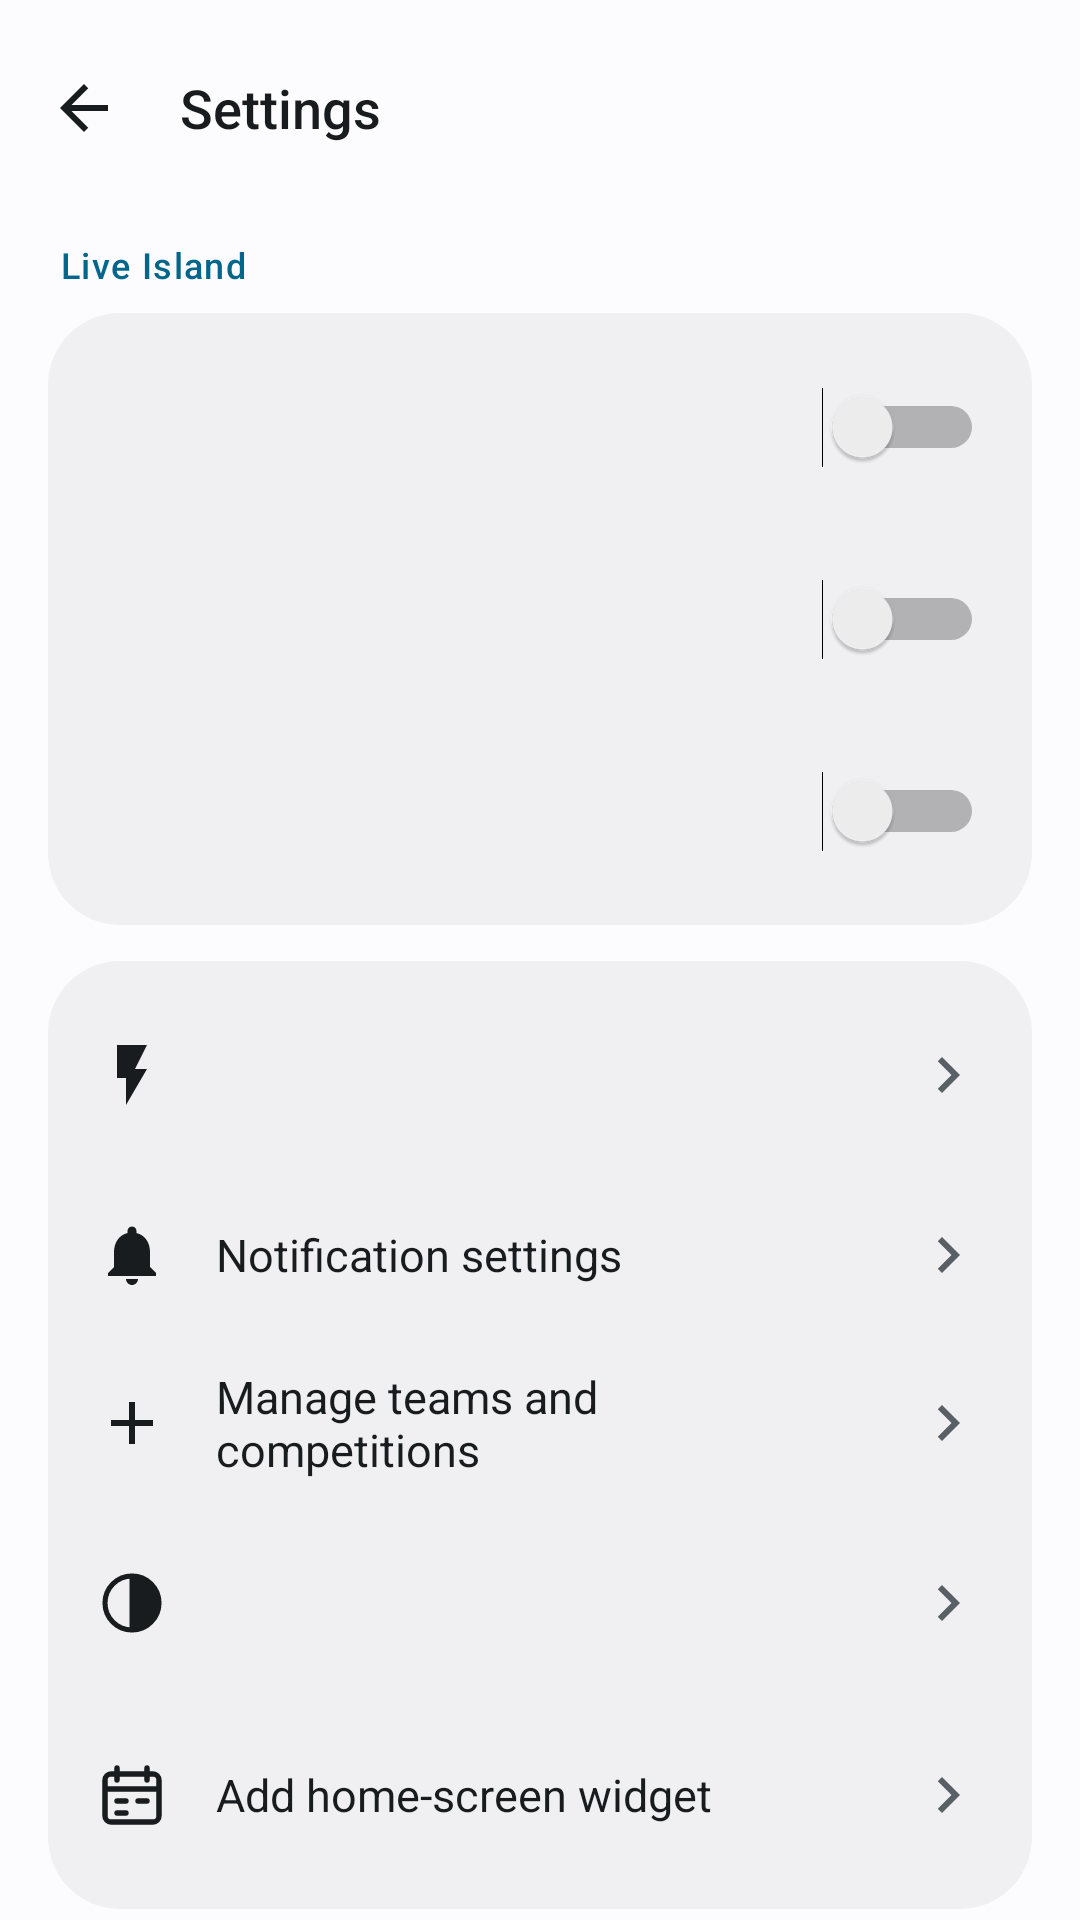

Icon click points for this 1080px x 1920px phone screenshot, format [x,y]:
Back: [84,108]
